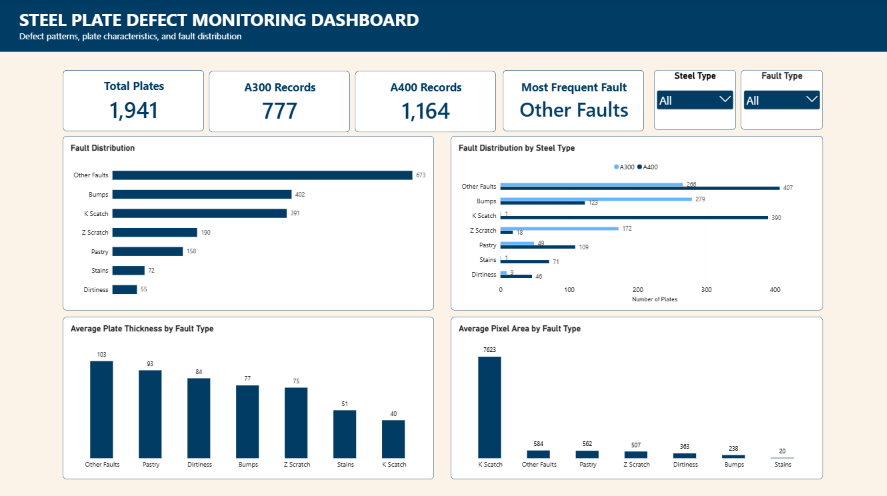

Layout of this report page (visuals, bound fields, positions):
{"tool":"powerbi","page":{"name":"Page 1","canvas":[1920,1080],"ordinal":0},"visuals":[{"type":"clusteredBarChart","title":"Fault Distribution","fields":{"Category":["Steel_Faults_Raw.Fault Type"],"Y":["CountNonNull(Steel_Faults_Raw.Fault Type)"]},"box":[140,298,800,376],"z":0},{"type":"clusteredBarChart","title":"Fault Distribution by Steel Type","fields":{"Category":["Steel_Faults_Raw.Fault Type"],"Series":["Steel_Faults_Raw.Steel_Type"],"Y":["CountNonNull(Steel_Faults_Raw.Fault_Type)"]},"box":[978,298,802,376],"z":1000},{"type":"clusteredColumnChart","title":"Average Plate Thickness by Fault Type","fields":{"Category":["Steel_Faults_Raw.Fault Type"],"Y":["_Measures.Average Plate Thickness"]},"box":[140,688,800,350],"z":2000},{"type":"slicer","title":"Steel Type","fields":{"Values":["Steel_Faults_Raw.Steel_Type"]},"box":[1415.3,155.9,176.7,128.3],"z":4000},{"type":"slicer","title":"Fault Type","fields":{"Values":["Steel_Faults_Raw.Fault_Type"]},"box":[1603.4,155.9,176.3,128.8],"z":5000},{"type":"cardVisual","fields":{"Data":["_Measures.A400 Records"]},"box":[770,156.7,304,132],"z":6000},{"type":"cardVisual","fields":{"Data":["_Measures.A300 Records"]},"box":[455,156.7,304,132],"z":7000},{"type":"cardVisual","fields":{"Data":["_Measures.Most Frequent Fault"]},"box":[1088.3,155,304,132],"z":8000},{"type":"textbox","box":[0,0,1920,116],"z":9000},{"type":"cardVisual","fields":{"Data":["_Measures.Total Plates _ Card"]},"box":[140,156,304,132],"z":10000},{"type":"clusteredColumnChart","title":"Average Pixel Area by Fault Type","fields":{"Category":["Steel_Faults_Raw.Fault Type"],"Y":["Avg(Steel_Faults_Raw.Pixels_Areas)"]},"box":[978,688,802,350],"z":10001}]}

Visuals, with their boxes in screenshot pixels (x1, y1, x2, y2), scaled from the page's 1920x1080 canvas onto the 887x496 screenshot:
"Fault Distribution" clusteredBarChart: Rect(65, 137, 434, 310)
"Fault Distribution by Steel Type" clusteredBarChart: Rect(452, 137, 822, 310)
"Average Plate Thickness by Fault Type" clusteredColumnChart: Rect(65, 316, 434, 477)
"Steel Type" slicer: Rect(654, 72, 735, 131)
"Fault Type" slicer: Rect(741, 72, 822, 131)
cardVisual - _Measures.A400 Records: Rect(356, 72, 496, 133)
cardVisual - _Measures.A300 Records: Rect(210, 72, 351, 133)
cardVisual - _Measures.Most Frequent Fault: Rect(503, 71, 643, 132)
textbox: Rect(0, 0, 886, 53)
cardVisual - _Measures.Total Plates _ Card: Rect(65, 72, 205, 132)
"Average Pixel Area by Fault Type" clusteredColumnChart: Rect(452, 316, 822, 477)
